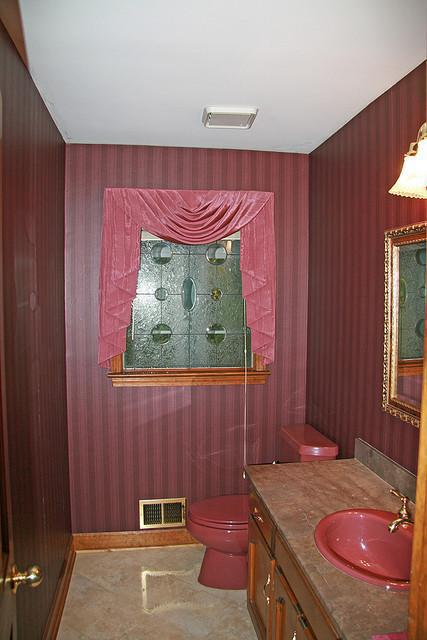Lavamanos: (308, 483, 426, 593)
